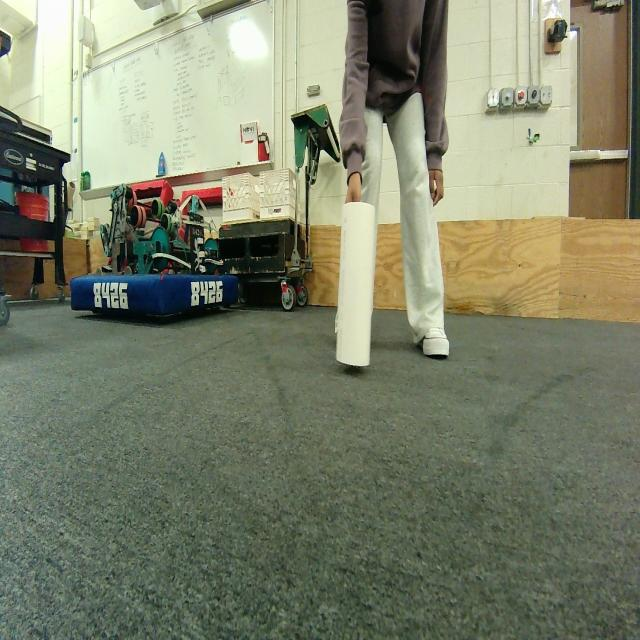coral: (336, 204, 377, 368)
